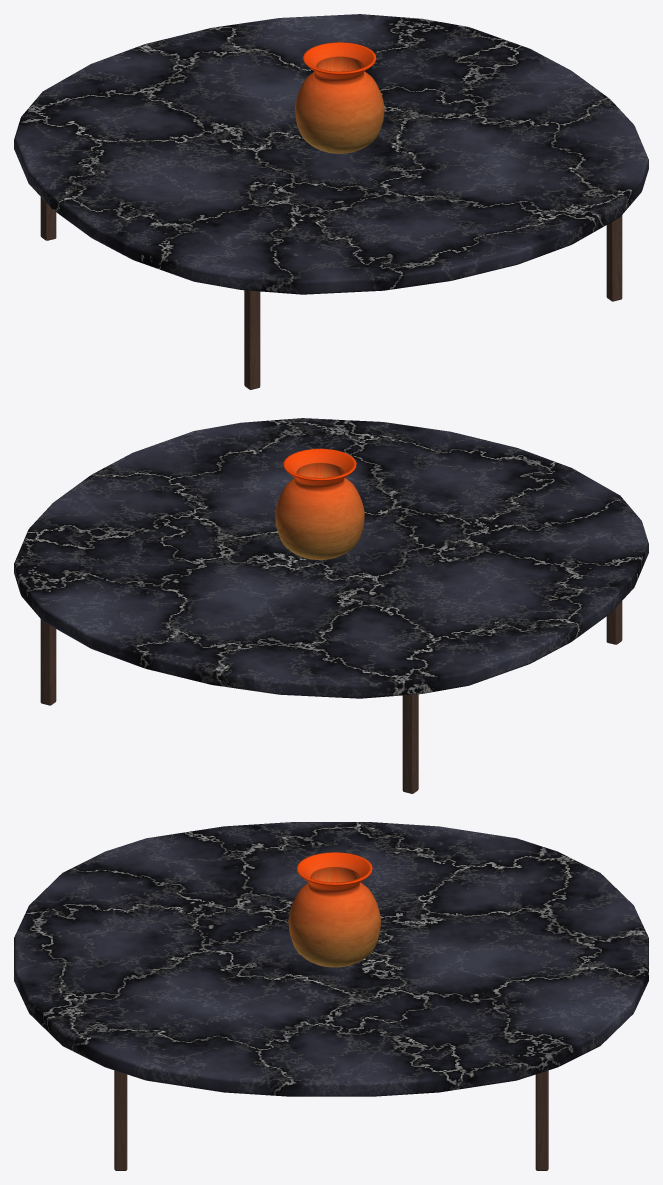
Rendered from table.fbx.
3 views of the same model, one above another, from view 1: azimuth 30°, elevation 25°; view 2: azimuth 150°, elevation 25°; view 3: azimuth 270°, elevation 25° (orthographic). The views are drawn at different scales.
Visible parts, largest first — view 1: Cube; view 2: Cube; view 3: Cube.
Boxes of the visible parts, x1,y1,x2,y2 form: Cube: [14, 14, 648, 389]; Cube: [14, 418, 648, 793]; Cube: [14, 822, 648, 1170].
Bounding box in the file's own units: 254 × 96.68 × 259.
